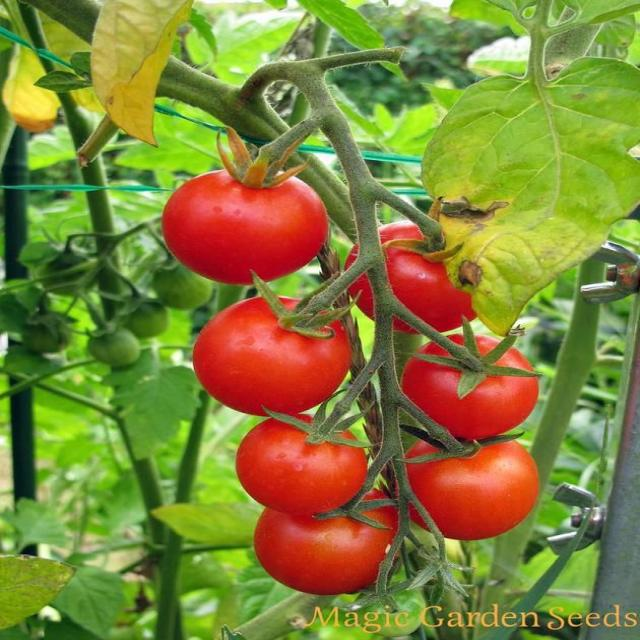level 6: (193, 296, 353, 414), (167, 168, 325, 282), (352, 222, 507, 328), (258, 490, 404, 598), (402, 440, 545, 538), (407, 333, 538, 437), (240, 424, 360, 504)
